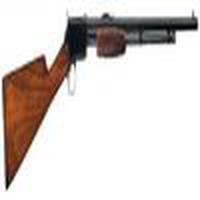gun: (3, 11, 198, 200)
